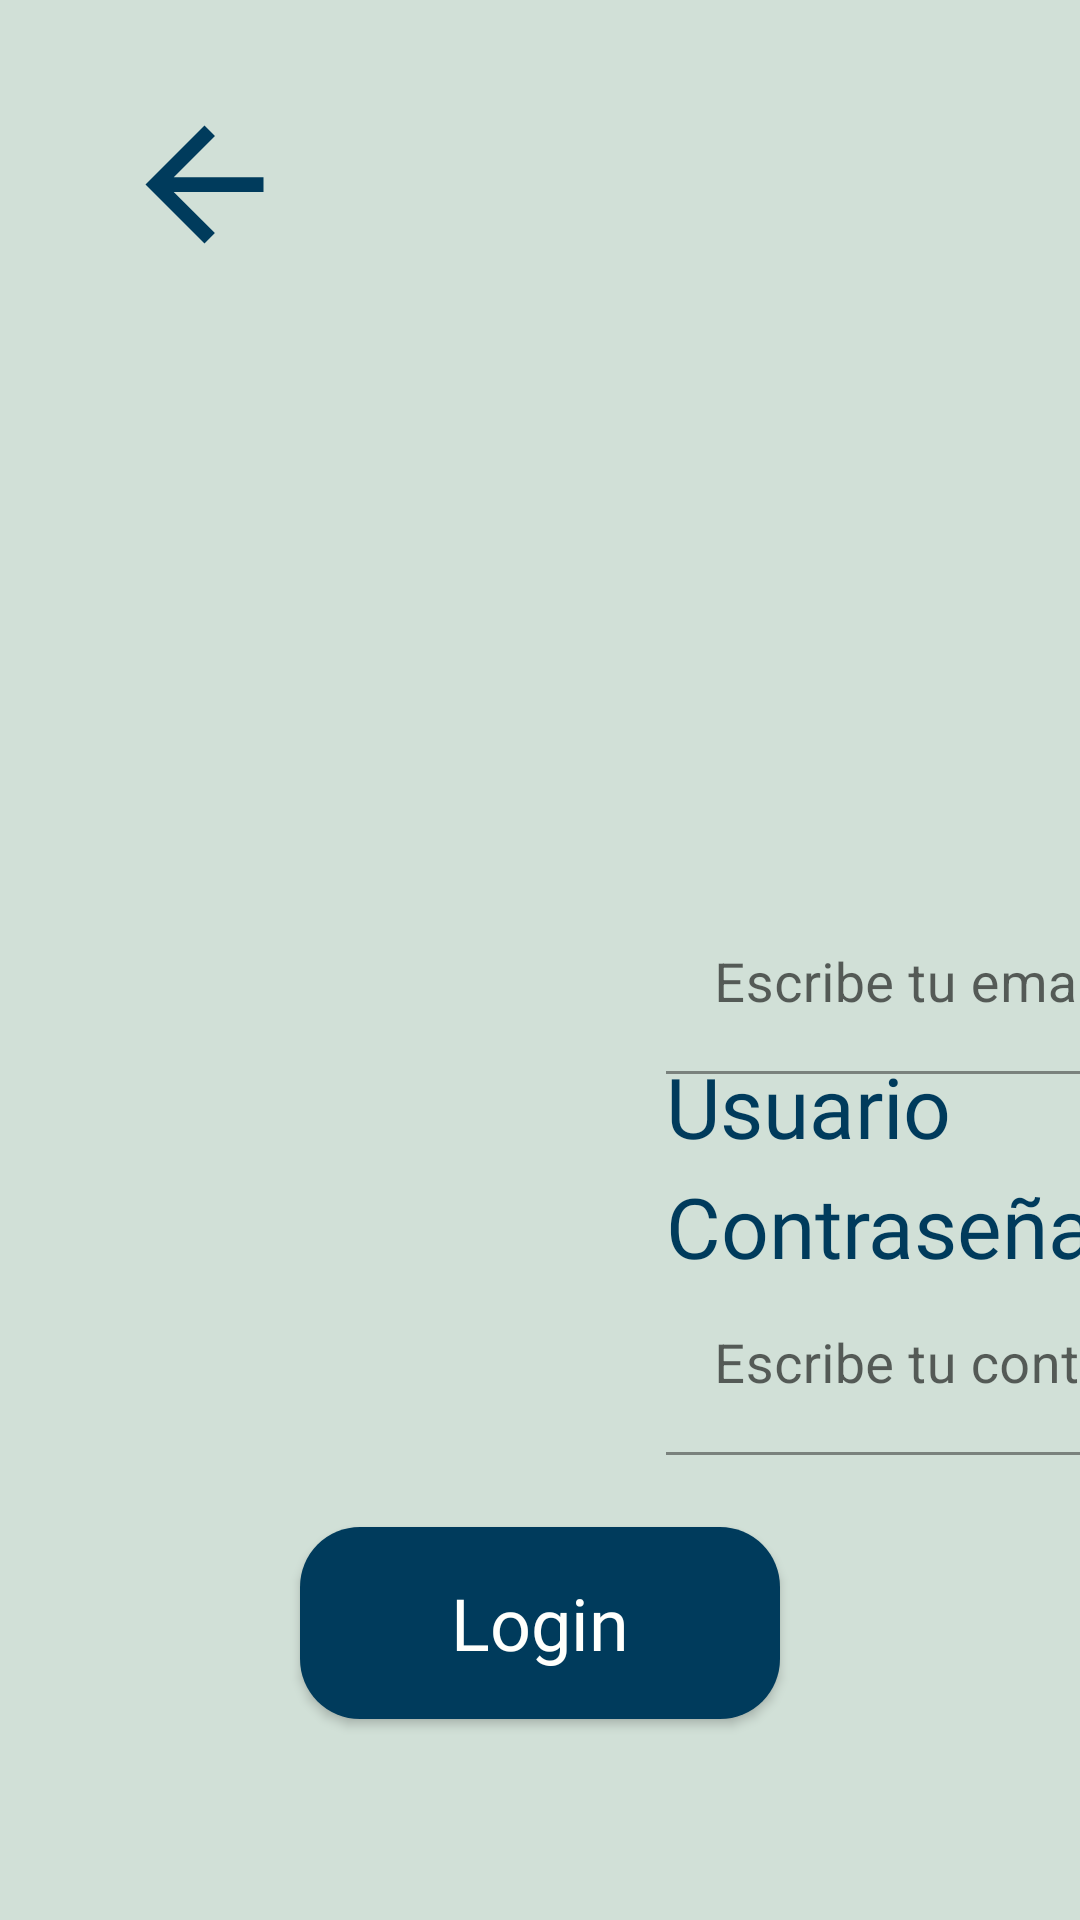

Named icons in this screenshot (1080 x 1920) and their bounding boxes, region(x1, y1, x2, y2):
arrow back: region(145, 125, 264, 244)
